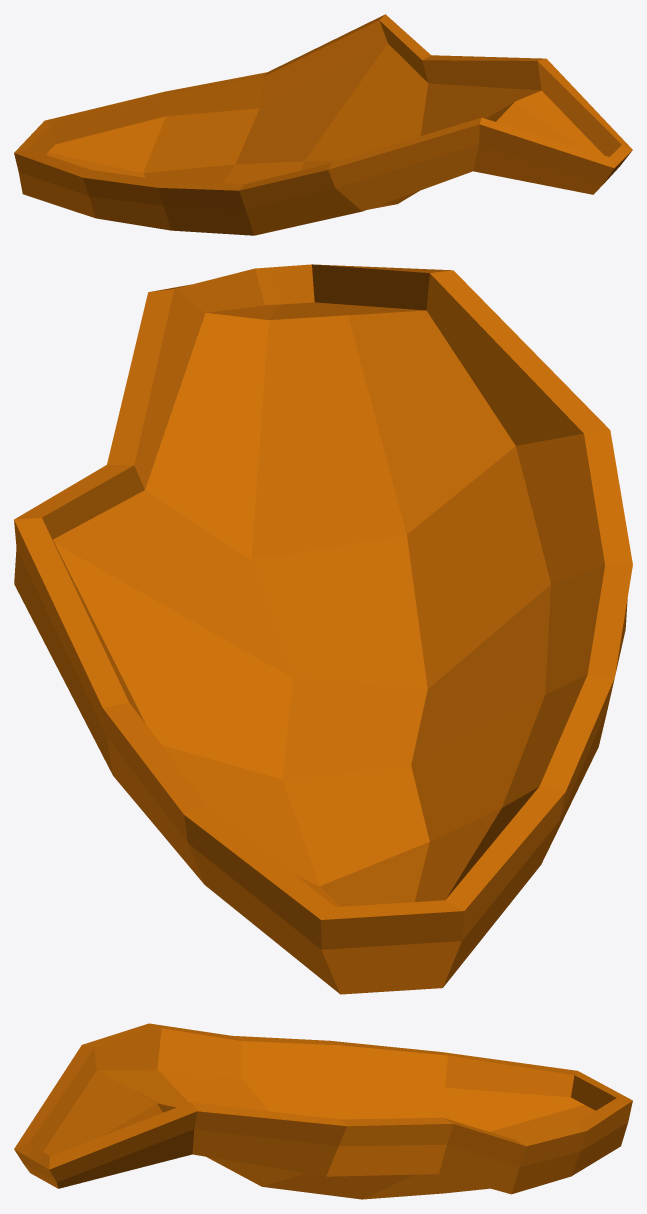
The model's file is Petal_Giant.fbx.
The picture shows the model from 3 angles, top to bottom: view 1: azimuth 30°, elevation 25°; view 2: azimuth 150°, elevation 25°; view 3: azimuth 270°, elevation 25°; orthographic projection. The views are drawn at different scales.
Parts seen in each view (by area): view 1: magic_petal; view 2: magic_petal; view 3: magic_petal.
Boxes of the visible parts, x1=… form: magic_petal: x1=14, y1=14, x2=632, y2=235; magic_petal: x1=14, y1=264, x2=632, y2=994; magic_petal: x1=14, y1=1023, x2=632, y2=1199.
Bounding box in the file's own units: 0.0177 × 0.00876 × 0.0235.
